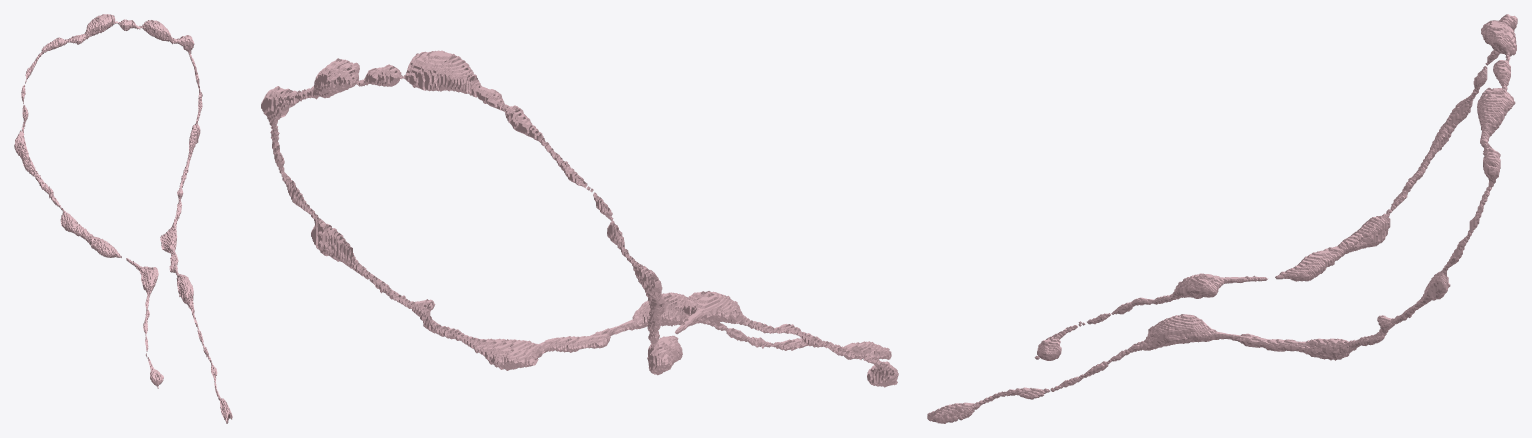
Rendered from SVV_DVA.gltf.
3 renders of one model, left to right at view 1: azimuth 30°, elevation 25°; view 2: azimuth 150°, elevation 25°; view 3: azimuth 270°, elevation 25°, orthographic. The views are drawn at different scales.
Parts seen in each view (by area): view 1: DVA; view 2: DVA; view 3: DVA.
Part boxes in pixels (bbox=[...]): DVA: bbox=[14, 14, 232, 423]; DVA: bbox=[261, 50, 898, 387]; DVA: bbox=[927, 14, 1517, 423].
Bounding box in the file's own units: 123697 × 167544 × 205860.
